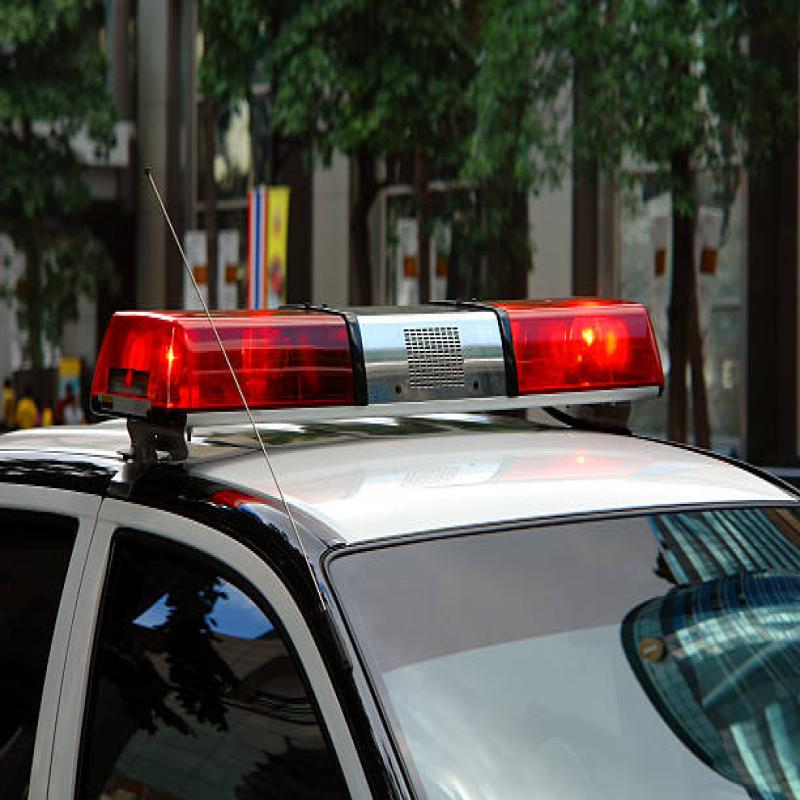AmbulanceSiren: (76, 283, 681, 433)
